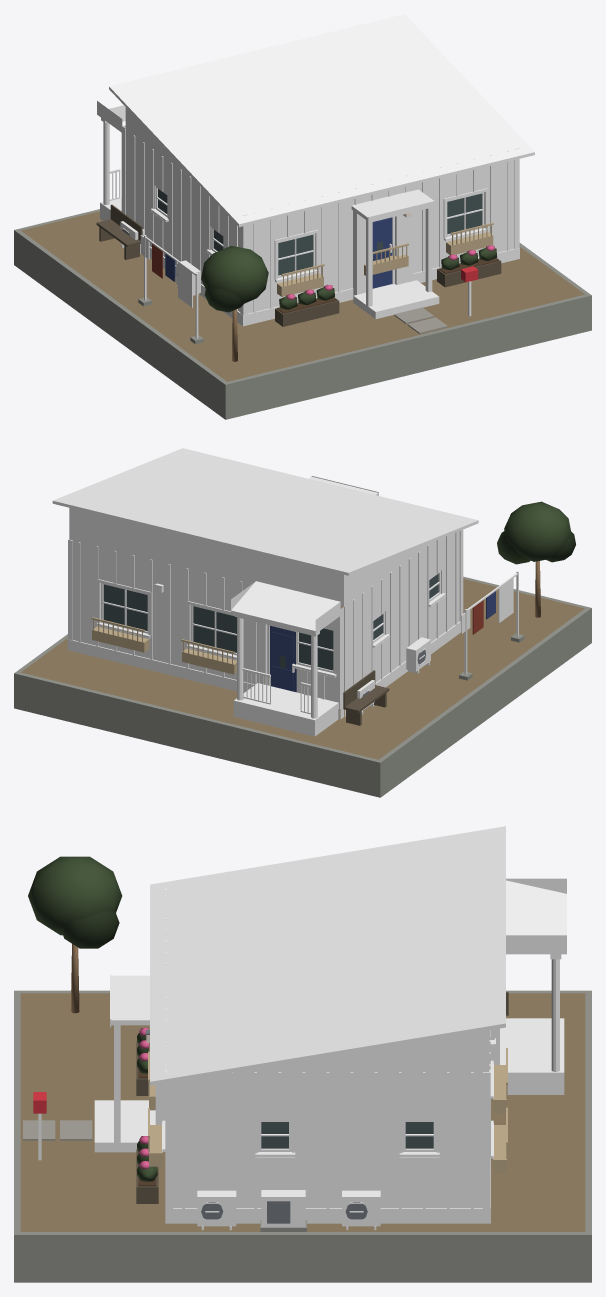
File: site_hut2_close.fbx
The picture shows the model from 3 angles, top to bottom: view 1: azimuth 30°, elevation 25°; view 2: azimuth 150°, elevation 25°; view 3: azimuth 270°, elevation 25°; orthographic projection. The views are drawn at different scales.
Visible parts, largest first — view 1: a2015.site_hut2.close; view 2: a2015.site_hut2.close; view 3: a2015.site_hut2.close.
Part boxes in pixels (x1,y1,x2,y2): a2015.site_hut2.close: (14,14,591,419); a2015.site_hut2.close: (14,448,591,797); a2015.site_hut2.close: (14,826,591,1282).
Bounding box in the file's own units: 10.4 × 5.05 × 10.4.
